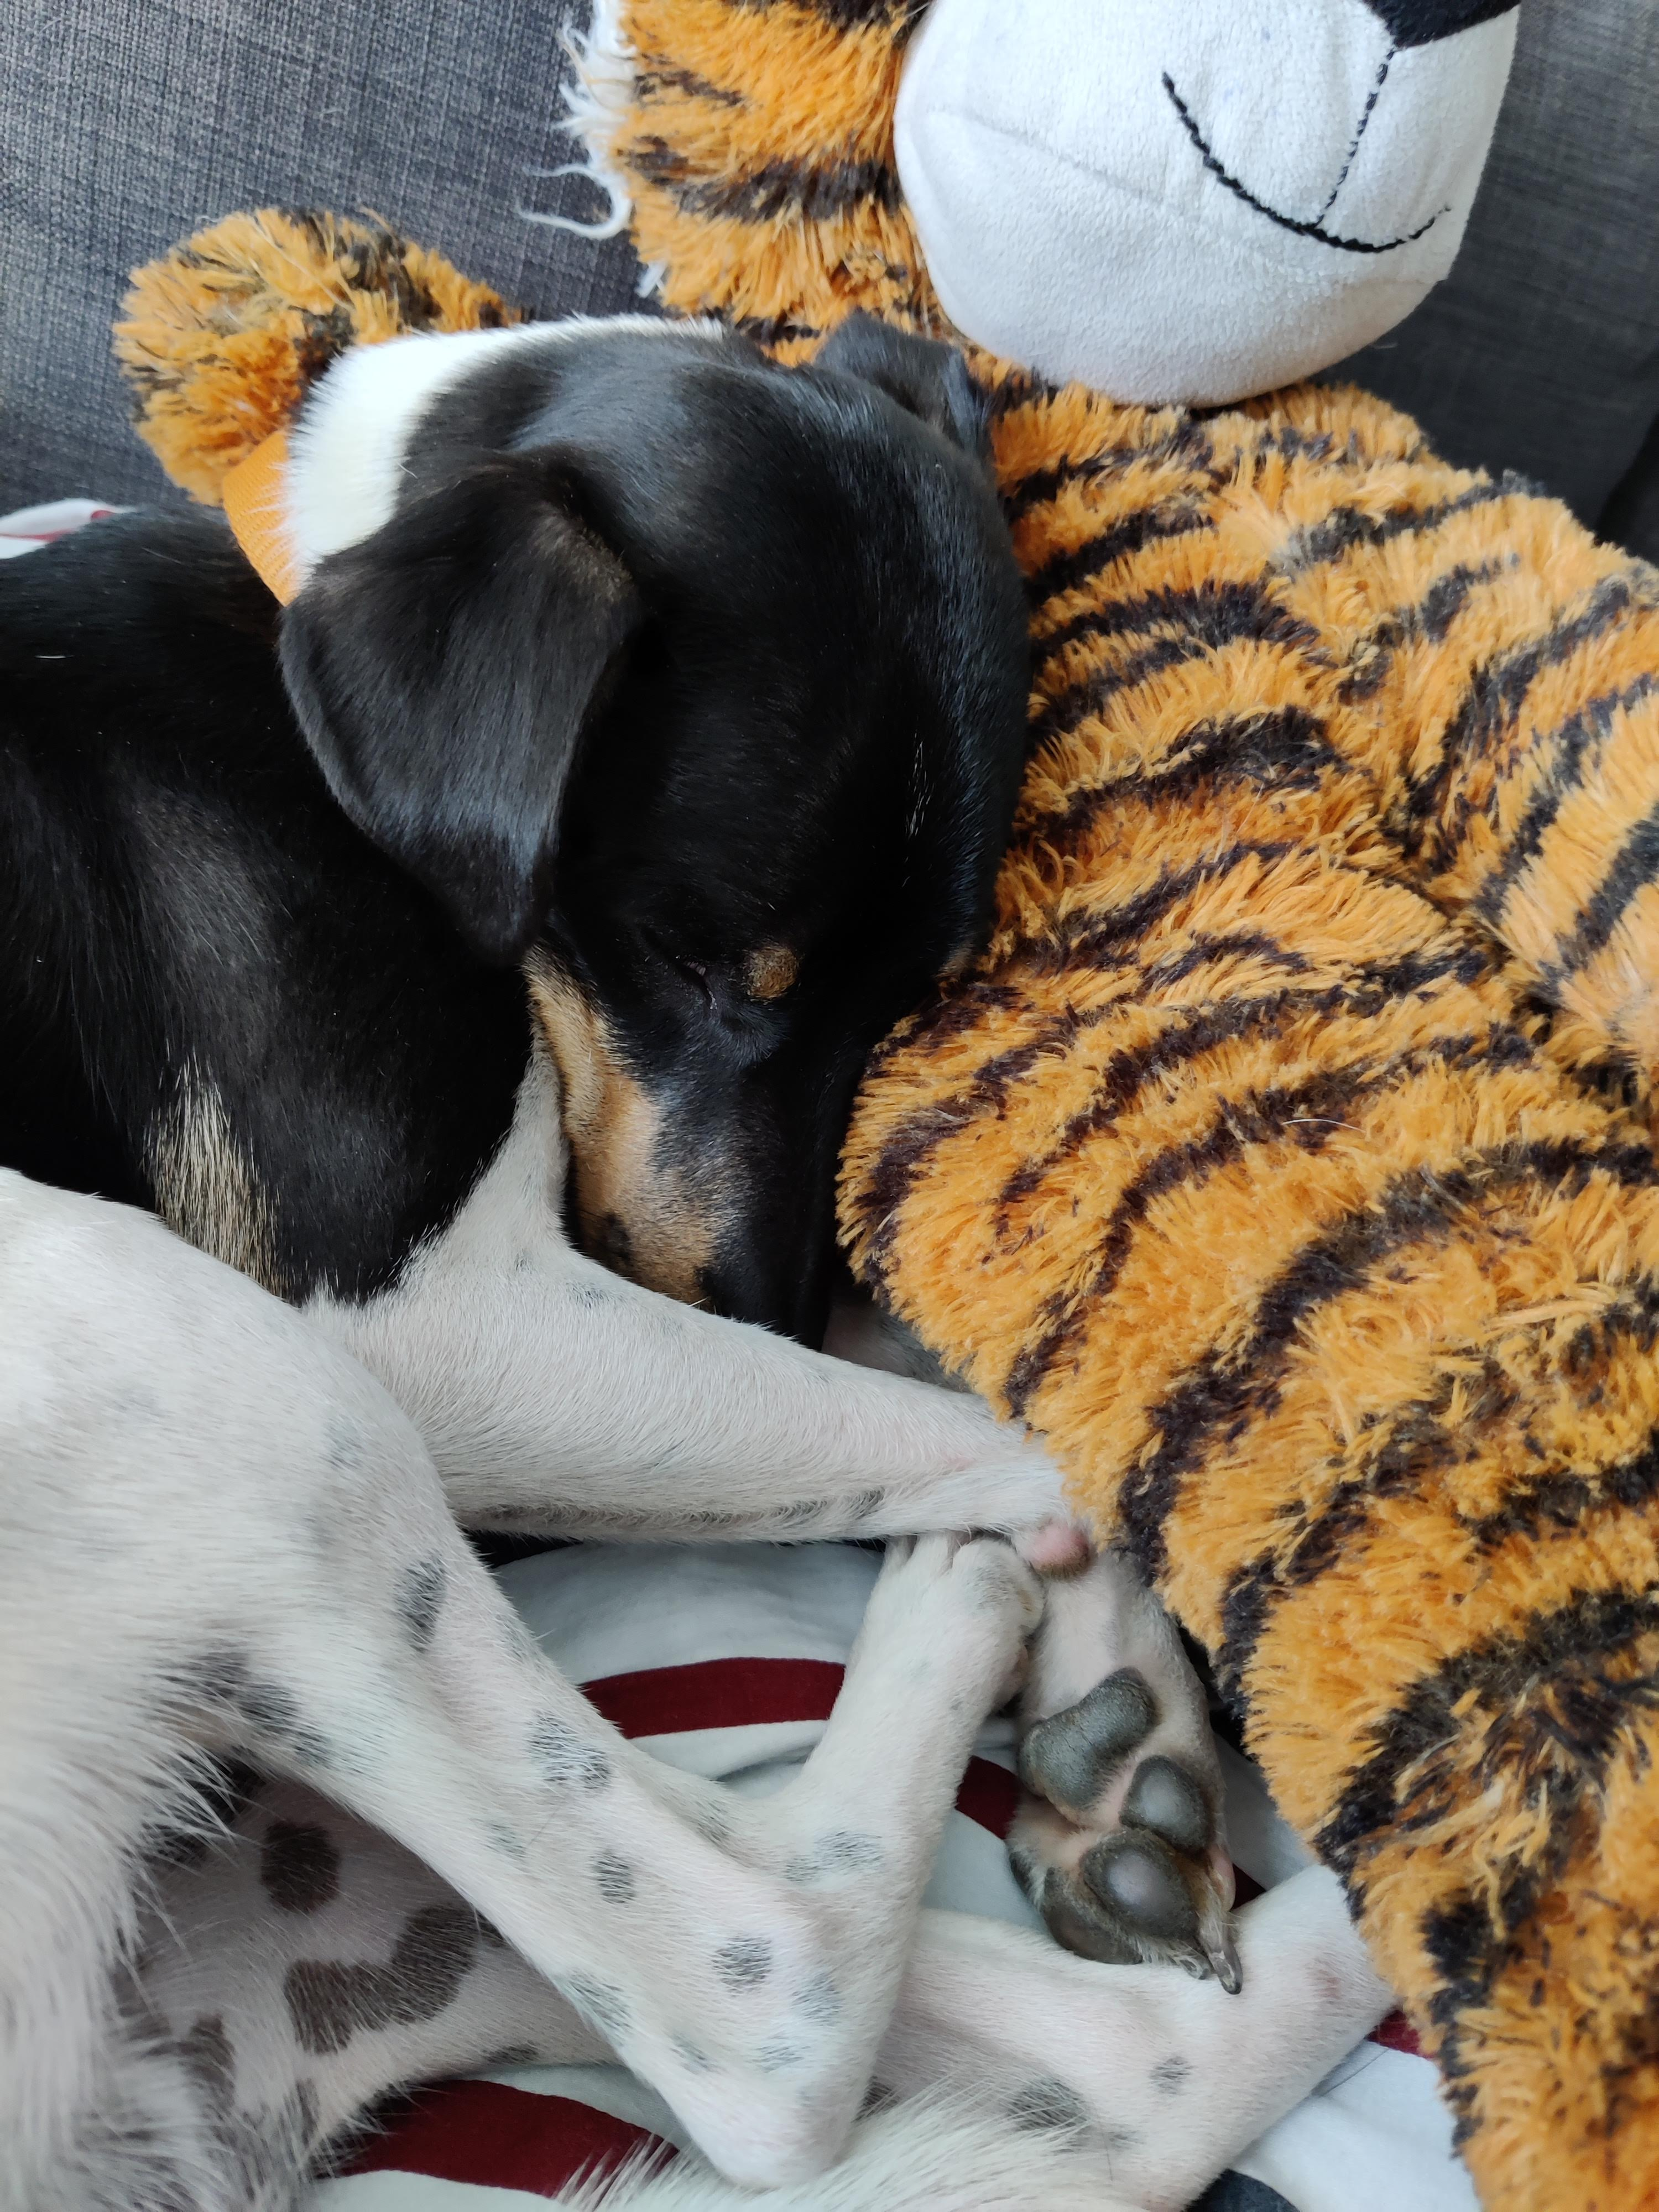Dog: (0, 296, 1412, 2212)
